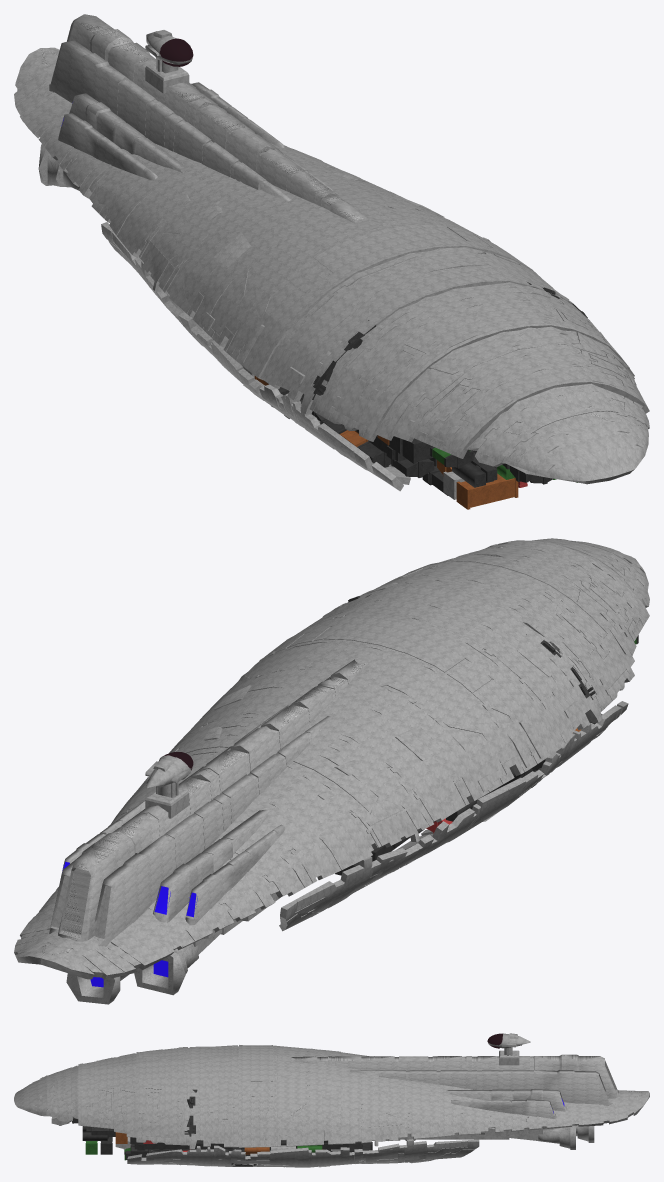
The model's file is transport.glb.
3 renders of one model, top to bottom at view 1: azimuth 30°, elevation 25°; view 2: azimuth 150°, elevation 25°; view 3: azimuth 270°, elevation 25°, orthographic. The views are drawn at different scales.
Visible parts, largest first — view 1: BottomEngine2_0, BottomEngine2_2, Cargo_3, BottomEngine2_1; view 2: BottomEngine2_0, BottomEngine2_2, BottomEngine2_1; view 3: BottomEngine2_0, BottomEngine2_2, Cargo_2, Cargo_3.
Boxes of the visible parts, x1,y1,x2,y2 form: BottomEngine2_0: [14, 14, 649, 499]; BottomEngine2_2: [265, 282, 587, 495]; Cargo_3: [254, 376, 518, 509]; BottomEngine2_1: [61, 38, 193, 125]; BottomEngine2_0: [14, 538, 649, 1004]; BottomEngine2_2: [335, 594, 638, 875]; BottomEngine2_1: [62, 752, 197, 987]; BottomEngine2_0: [14, 1033, 649, 1167]; BottomEngine2_2: [72, 1089, 372, 1166]; Cargo_2: [85, 1141, 322, 1160]; Cargo_3: [115, 1132, 269, 1154].
Bounding box in the file's own units: 27.46 × 18.02 × 89.36.
6 materials, 6 textured.
